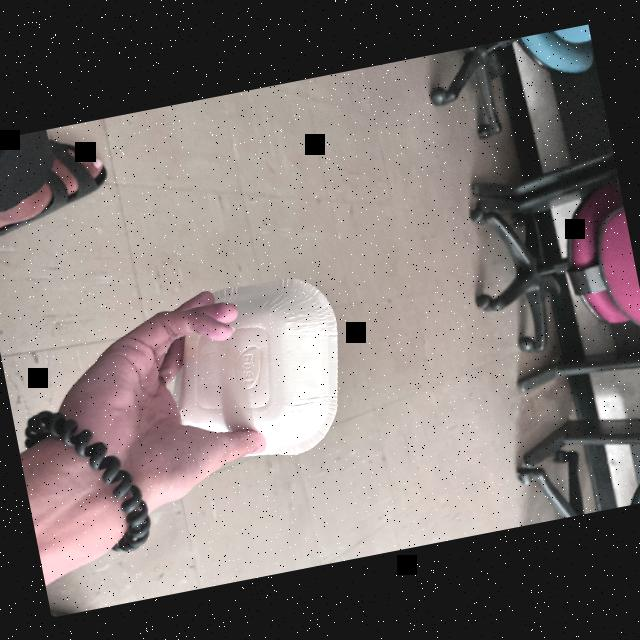cardboard_bowl: (138, 260, 362, 478)
